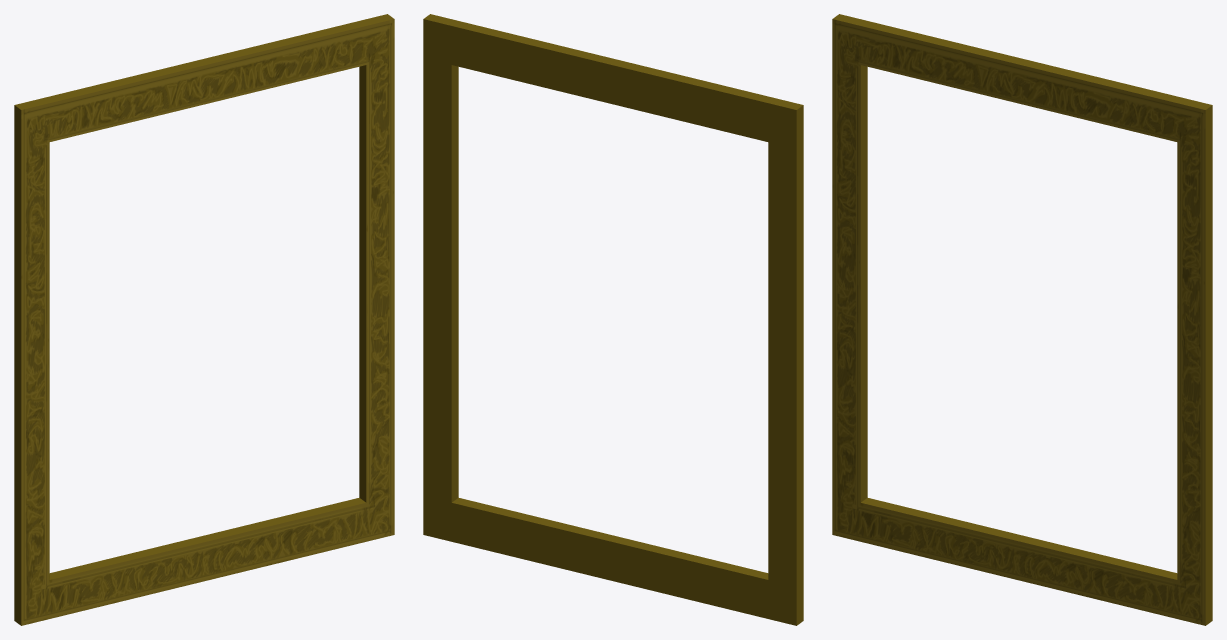
Rendered from frameMD.fbx.
The picture shows the model from 3 angles, left to right: view 1: azimuth 30°, elevation 25°; view 2: azimuth 150°, elevation 25°; view 3: azimuth 330°, elevation 25°; orthographic projection.
Visible parts, largest first — view 1: frameMD; view 2: frameMD; view 3: frameMD.
Boxes of the visible parts, x1=… form: frameMD: x1=14, y1=14, x2=394, y2=625; frameMD: x1=423, y1=14, x2=803, y2=625; frameMD: x1=832, y1=14, x2=1212, y2=625.
Bounding box in the file's own units: 62.46 × 82.5 × 2.
